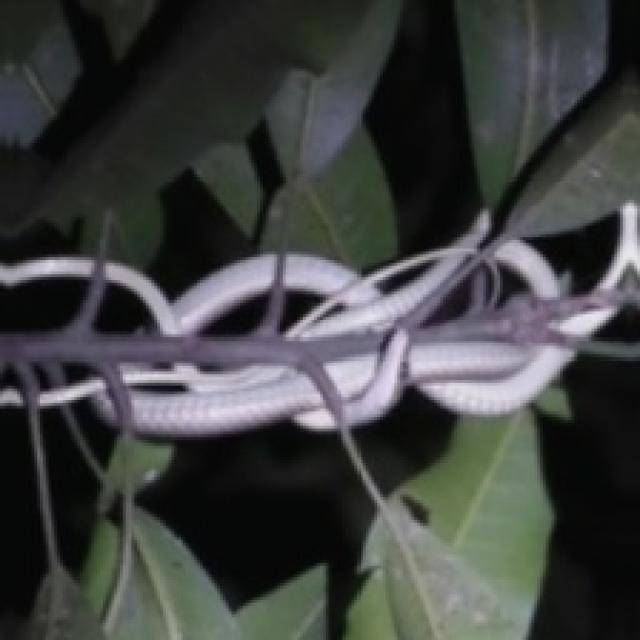paradise tree snake: (0, 71, 637, 434), (0, 203, 637, 434), (523, 203, 623, 297)
